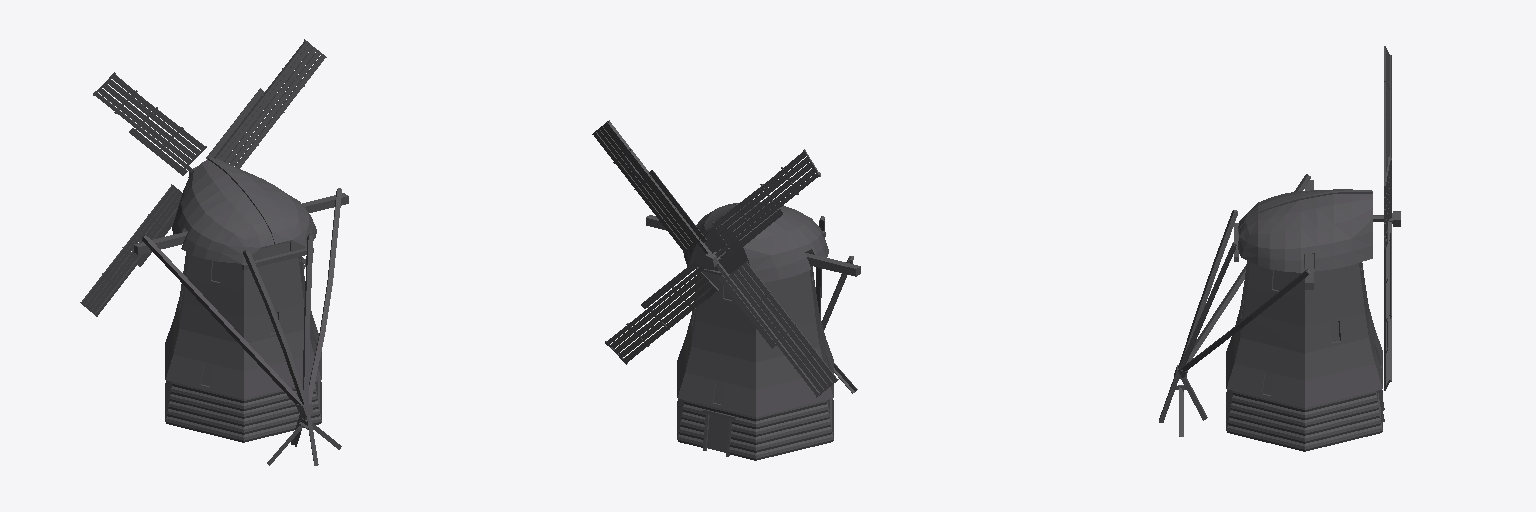
File: windmill.obj
3 views of the same model, side by side, from view 1: azimuth 30°, elevation 25°; view 2: azimuth 150°, elevation 25°; view 3: azimuth 270°, elevation 25° (orthographic).
Parts seen in each view (by area): view 1: Lod01; view 2: Lod01; view 3: Lod01.
Boxes of the visible parts, x1=… form: Lod01: x1=80, y1=39, x2=348, y2=465; Lod01: x1=592, y1=120, x2=860, y2=460; Lod01: x1=1159, y1=46, x2=1400, y2=451.
Size of the model in its own units: 25.78 by 33.25 by 21.94.